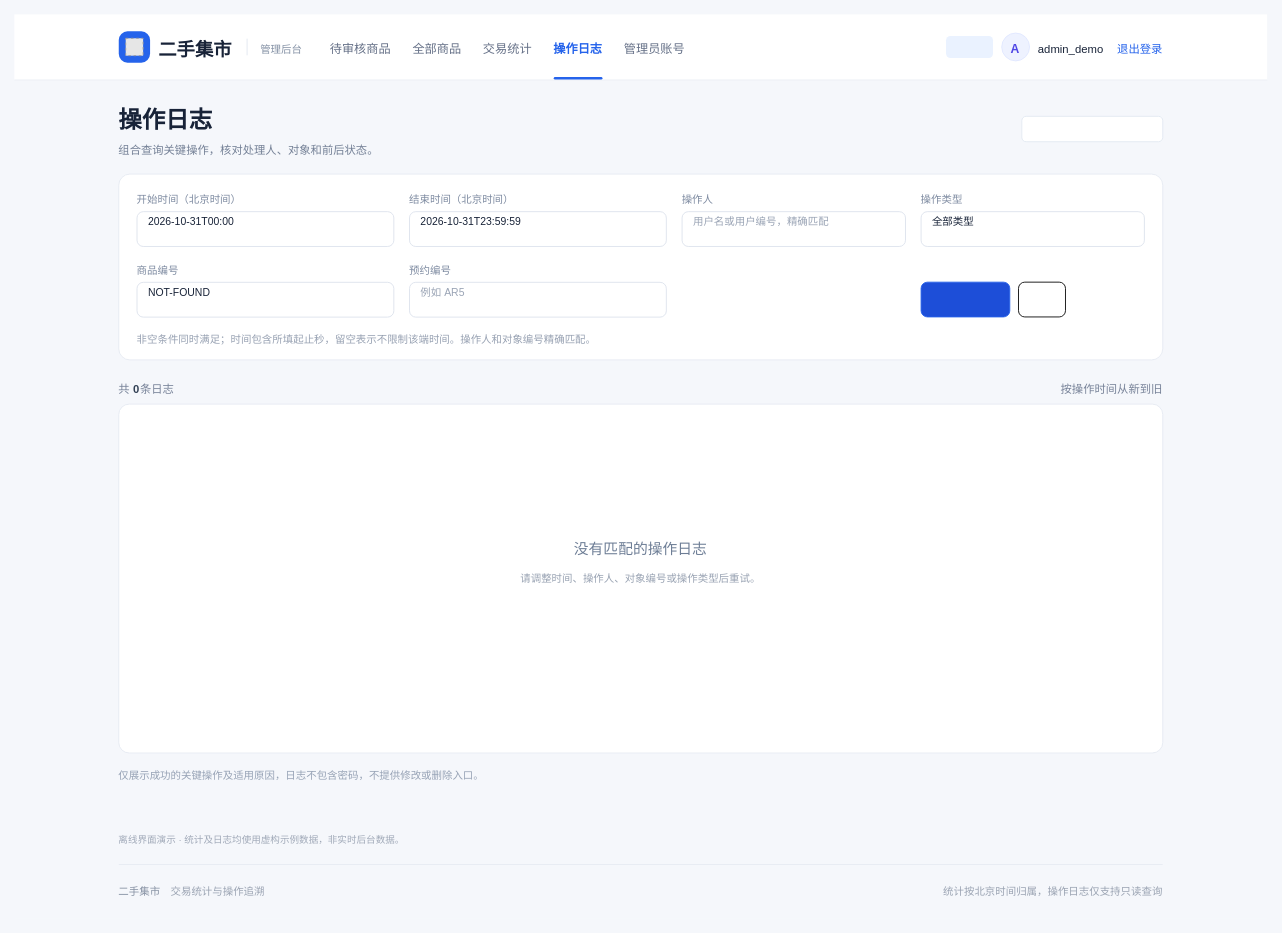
This 1282x933 diagram has some shape labels left out. Grey dashed boxes stand in for pictures. Here are the shapes that lost their labels. From the top down, the centre of each, then its label:
At (969,47): "管理员".
At (1092,128): "只读记录 · 不可修改或删除".
At (965,299): "查询日志".
At (1041,299): "重置".
